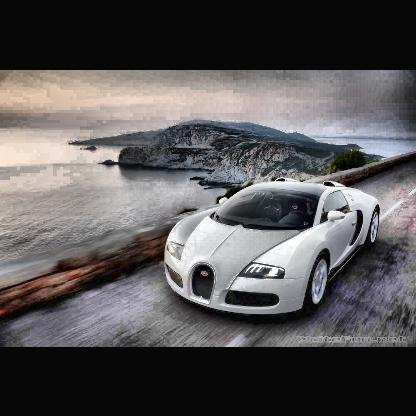Bugatti Veyron 16-4 Convertible 2009: (165, 178, 383, 323)
